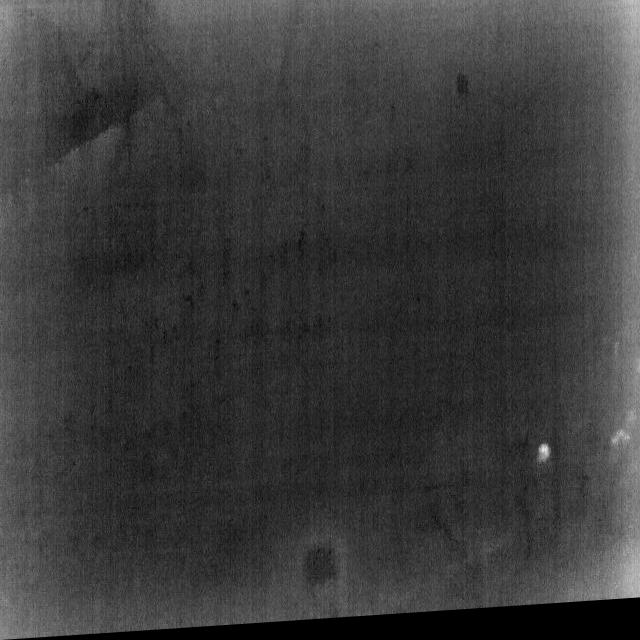deer: (536, 448, 552, 471)
